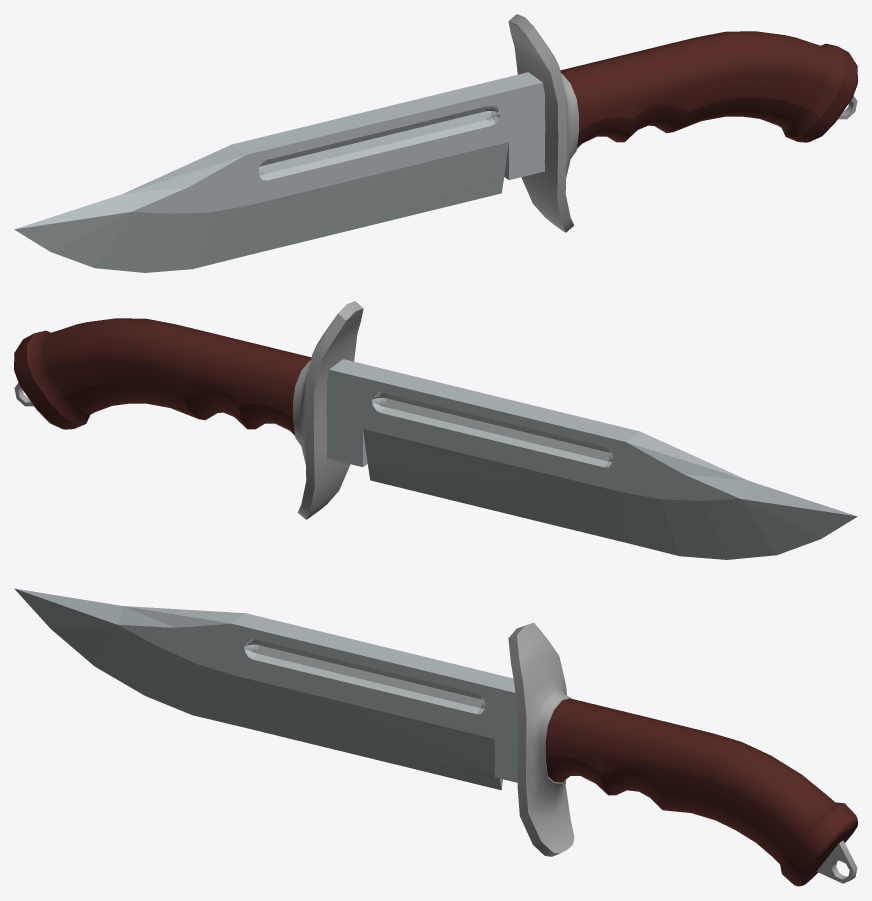
The model's file is faca.glb.
3 renders of one model, top to bottom at view 1: azimuth 30°, elevation 25°; view 2: azimuth 150°, elevation 25°; view 3: azimuth 330°, elevation 25°, orthographic.
Visible parts, largest first — view 1: Cylinder.003; view 2: Cylinder.003; view 3: Cylinder.003.
Boxes of the visible parts, x1=… form: Cylinder.003: x1=14, y1=14, x2=857, y2=272; Cylinder.003: x1=14, y1=301, x2=857, y2=559; Cylinder.003: x1=14, y1=588, x2=857, y2=886.
Size of the model in its own units: 4.66 by 1.16 by 0.3871.
